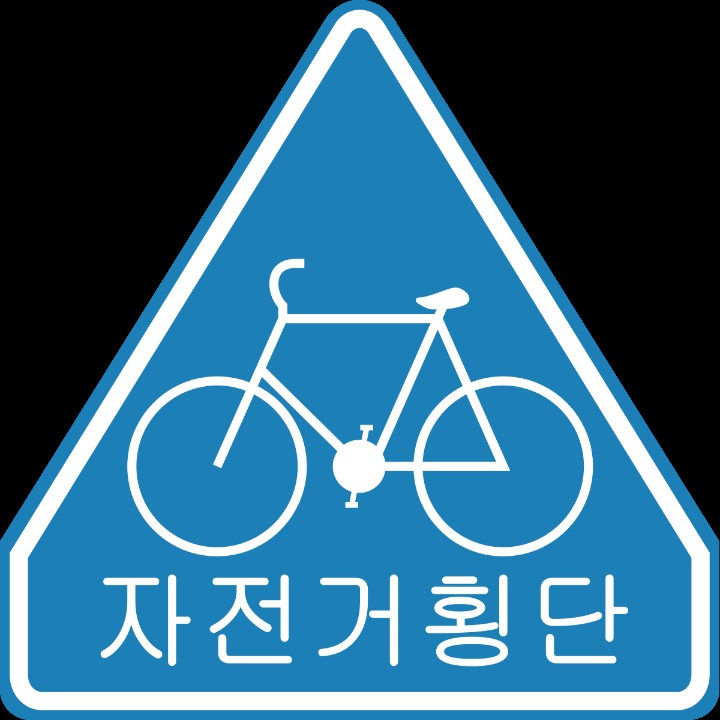bicycle: (113, 183, 596, 666)
